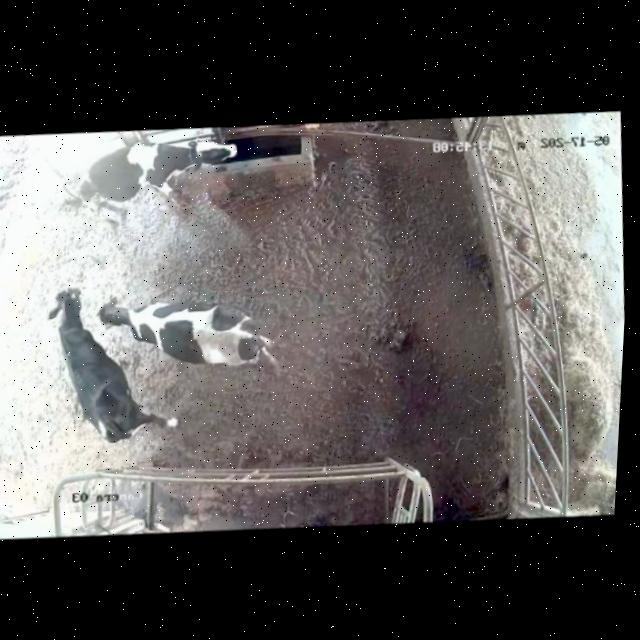stand: (15, 250, 194, 470), (97, 267, 303, 389), (56, 127, 242, 239)
